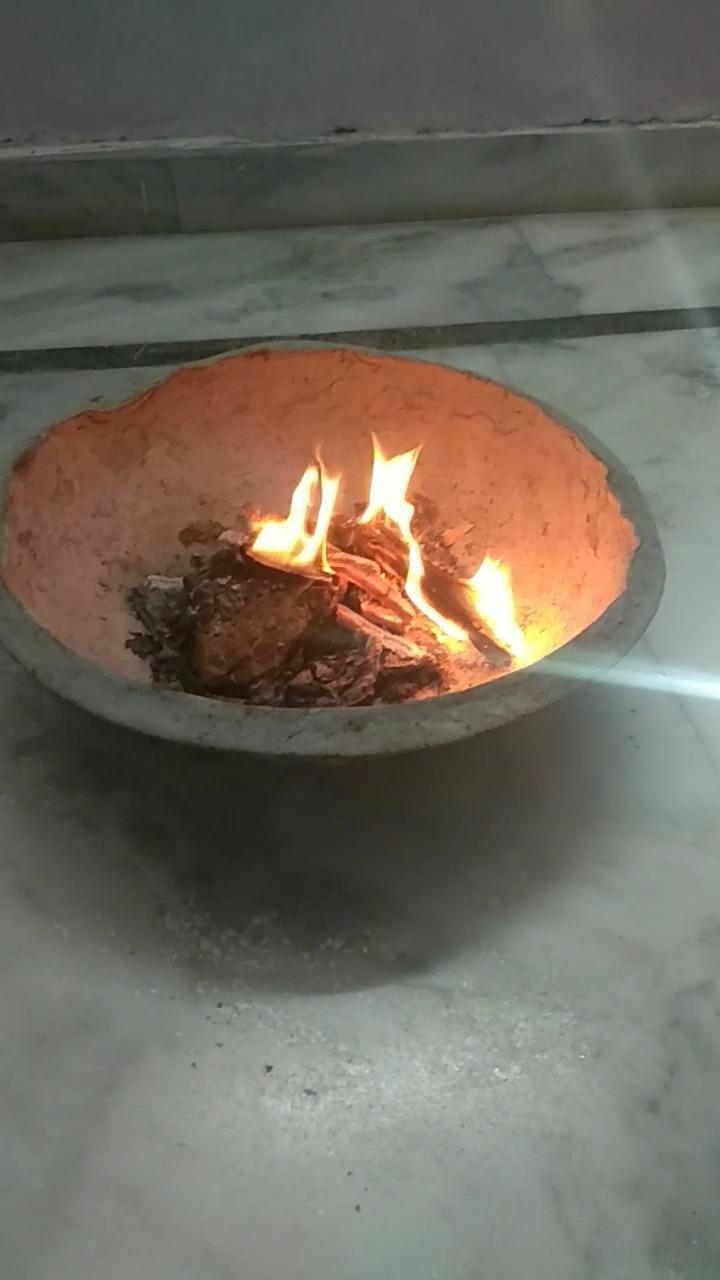fire: (236, 438, 443, 591), (396, 555, 538, 666)
